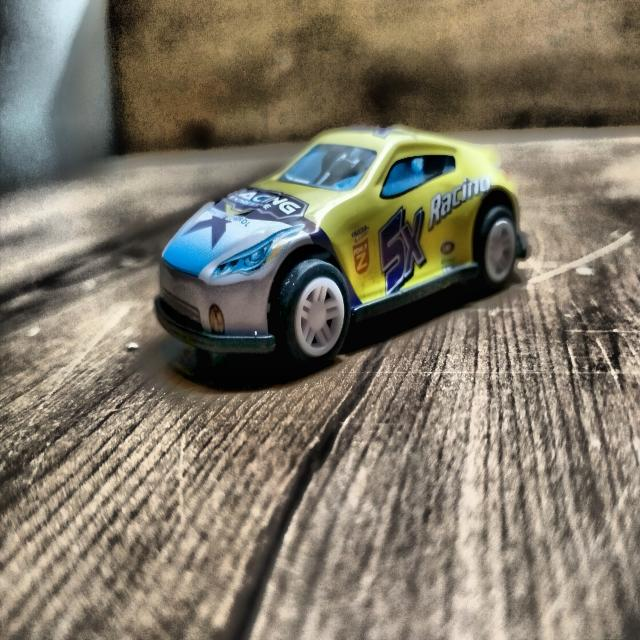Car: (156, 128, 527, 369)
